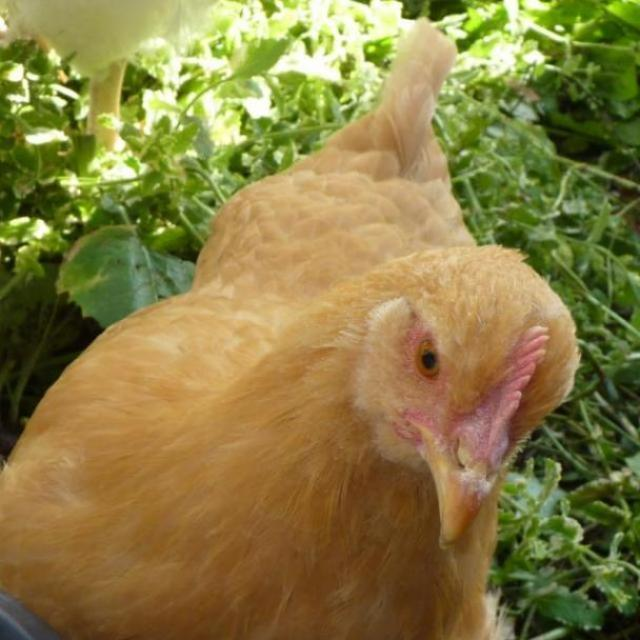Chicken: (0, 92, 599, 614)
